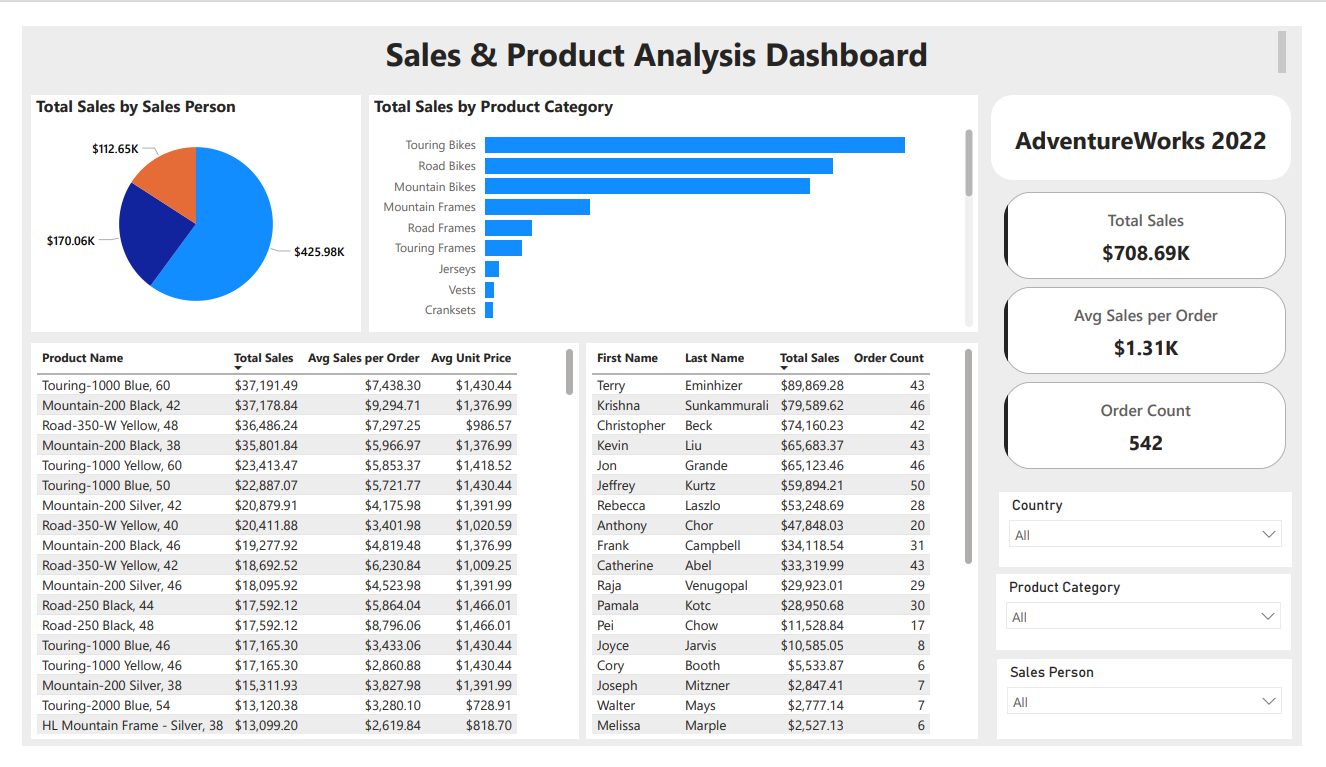

The dashboard page shown, as its layout file describes it:
{"tool":"powerbi","page":{"name":"Page 1","canvas":[1280,720],"ordinal":0},"visuals":[{"type":"clusteredBarChart","fields":{"Category":["ProductCategory.name"],"Y":["MeasureTable.Total Sales"]},"box":[347,69,609,237],"z":1},{"type":"tableEx","fields":{"Values":["product.name","MeasureTable.Total Sales","MeasureTable.Avg Sales per Order","MeasureTable.Avg Unit Price"]},"box":[9,317,548,396],"z":4},{"type":"cardVisual","fields":{"Data":["MeasureTable.Total Sales","MeasureTable.Avg Sales per Order","MeasureTable.Order Count"]},"box":[977,161,292,289],"z":6},{"type":"pieChart","fields":{"Category":["Customer.sales_person"],"Y":["MeasureTable.Total Sales"]},"box":[9,69,330,237],"z":7},{"type":"tableEx","fields":{"Values":["Customer.first_name","Customer.last_name","MeasureTable.Total Sales","MeasureTable.Order Count"]},"box":[564,317,392,396],"z":8},{"type":"slicer","fields":{"Values":["Address.country_region"]},"box":[977,466,293,75],"z":9},{"type":"slicer","fields":{"Values":["Customer.sales_person"]},"box":[975,633,295,80],"z":10},{"type":"slicer","fields":{"Values":["ProductCategory.name"]},"box":[974,548,295,76],"z":11},{"type":"textbox","box":[9,0,1260,60],"z":12},{"type":"shape","box":[969,69,300,85],"z":13},{"type":"textbox","box":[977,92,284,47],"z":14}]}

Visuals, with their boxes on the page's 1280x720 design canvas (x1, y1, x2, y2). These are canvas units, not pixel positions in the 1326x767 screenshot, which may show the page scaled, cropped or inside an application window:
clusteredBarChart - ProductCategory.name x MeasureTable.Total Sales: [347, 69, 956, 306]
tableEx - product.name x MeasureTable.Total Sales: [9, 317, 557, 713]
cardVisual - MeasureTable.Total Sales x MeasureTable.Avg Sales per Order: [977, 161, 1269, 450]
pieChart - Customer.sales_person x MeasureTable.Total Sales: [9, 69, 339, 306]
tableEx - Customer.first_name x Customer.last_name: [564, 317, 956, 713]
slicer - Address.country_region: [977, 466, 1270, 541]
slicer - Customer.sales_person: [975, 633, 1270, 713]
slicer - ProductCategory.name: [974, 548, 1269, 624]
textbox: [9, 0, 1269, 60]
shape: [969, 69, 1269, 154]
textbox: [977, 92, 1261, 139]
